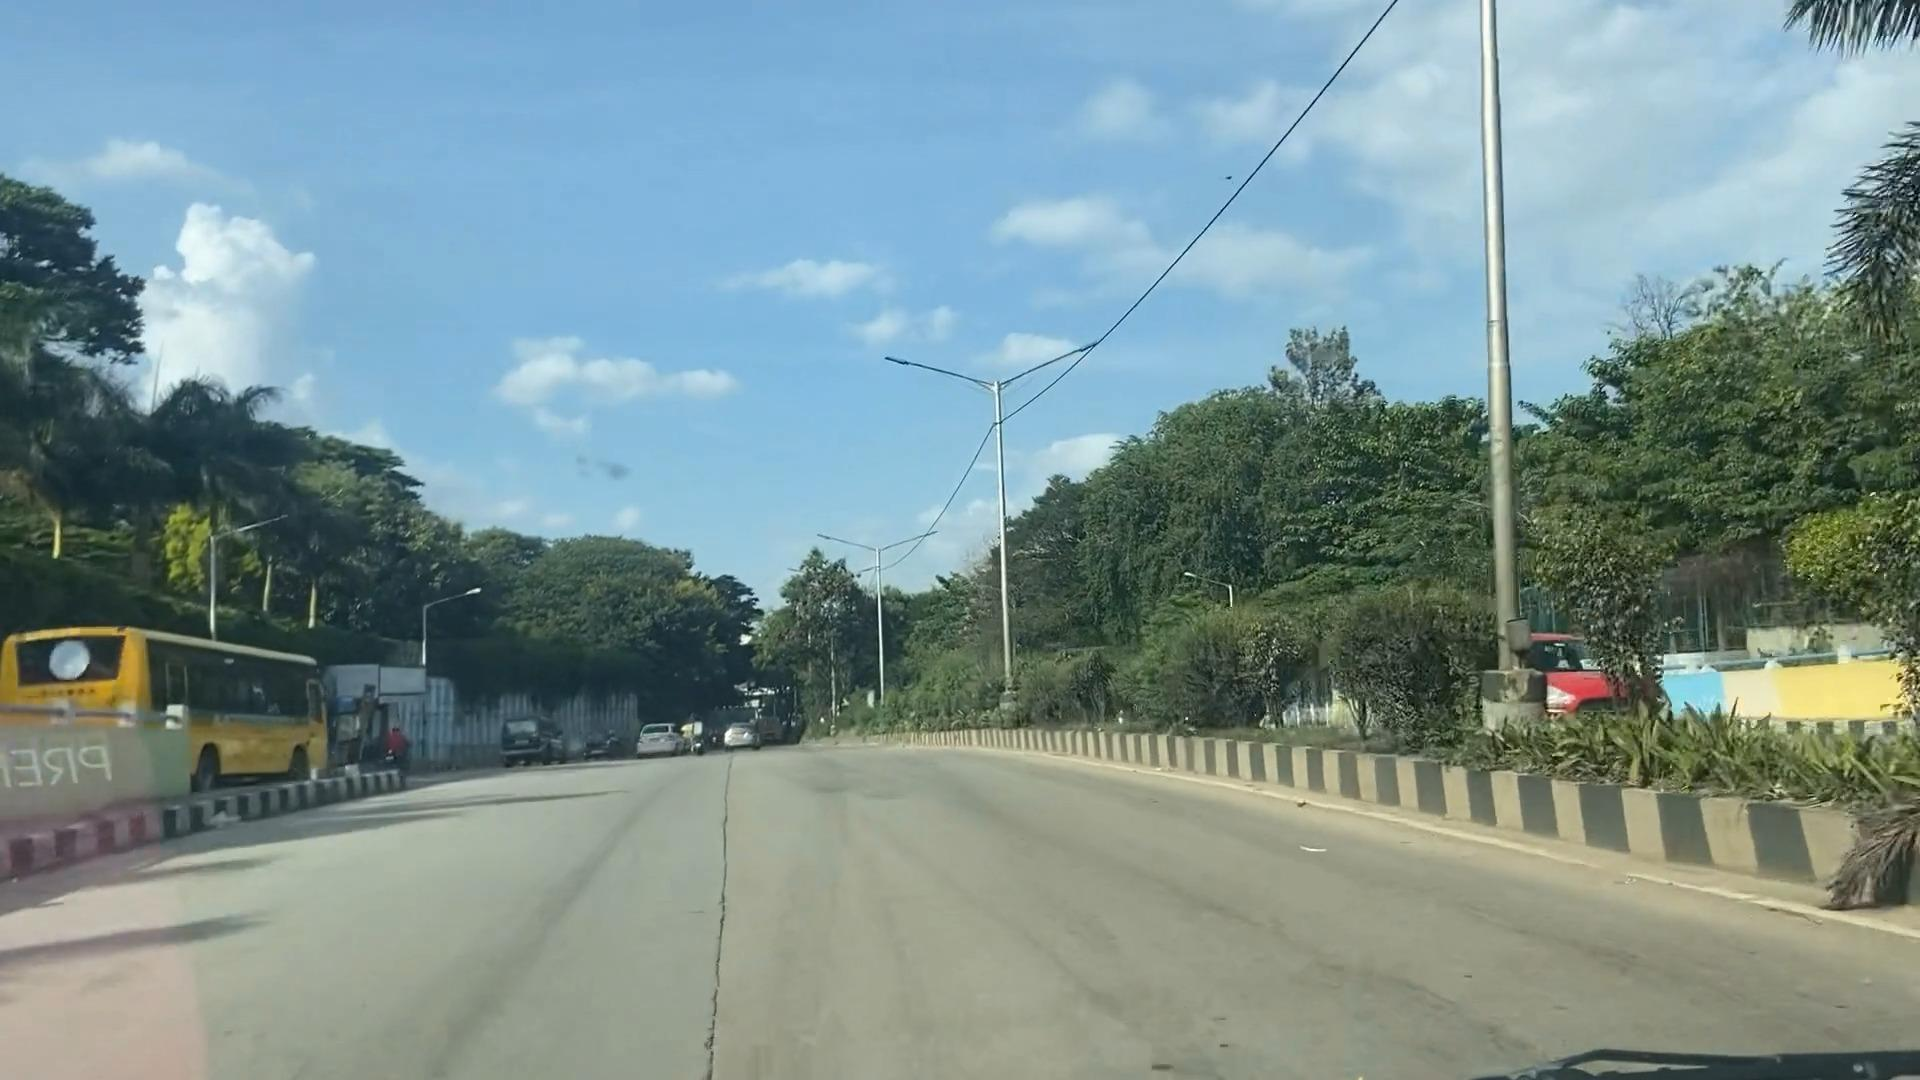RoadDamages: (698, 746, 745, 1080)
